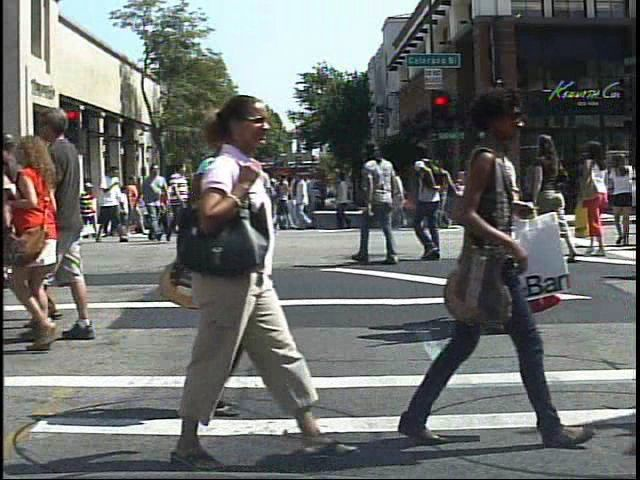person: (381, 78, 569, 461), (141, 82, 318, 477), (443, 128, 558, 346), (31, 100, 110, 347), (16, 126, 86, 351), (354, 135, 411, 274), (403, 138, 462, 268), (497, 129, 532, 344), (526, 126, 575, 262), (579, 136, 617, 261), (213, 147, 248, 250), (612, 147, 639, 248), (165, 158, 197, 243), (147, 159, 178, 245), (99, 162, 130, 245), (385, 164, 412, 236), (73, 180, 100, 243), (80, 183, 100, 227)
